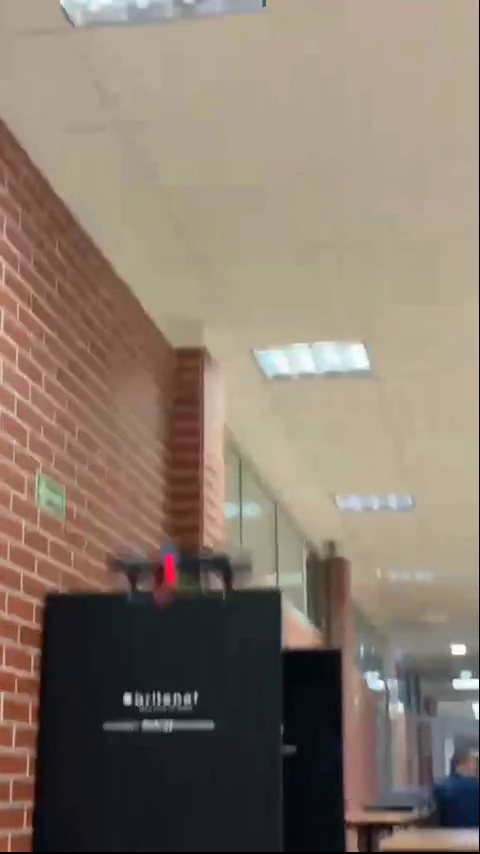drone: (110, 544, 239, 606)
no vest: (427, 749, 480, 815)
